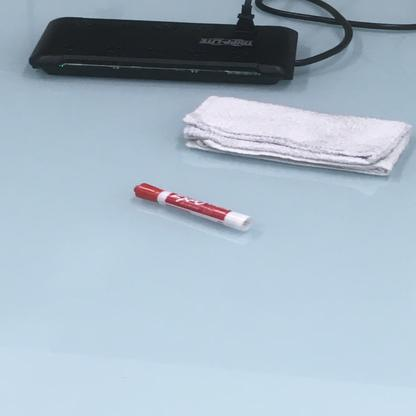expo_marker: (129, 180, 259, 235)
